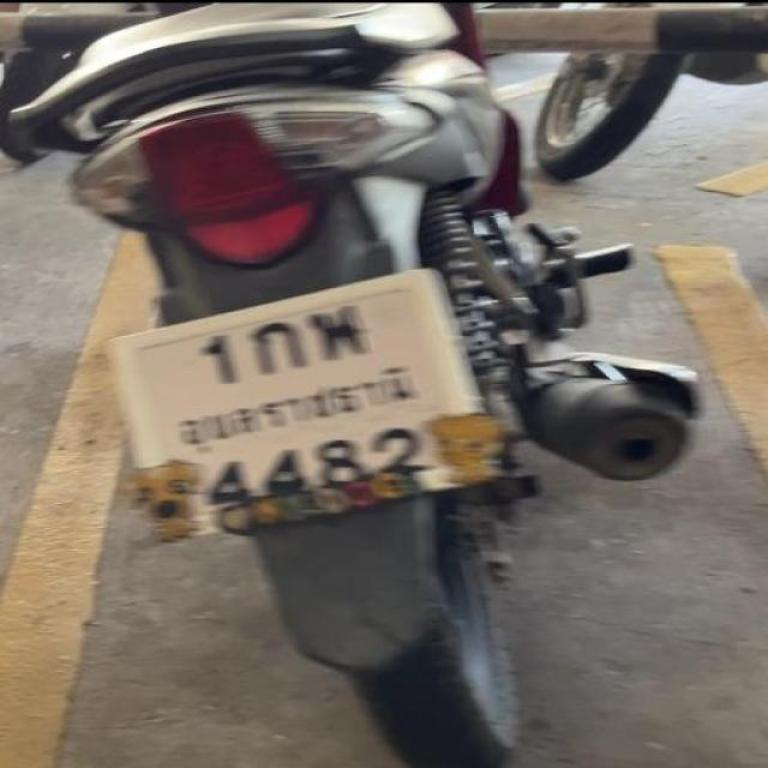license plate: (103, 264, 497, 545)
